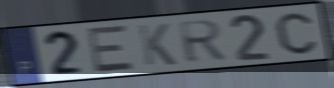2: (41, 28, 89, 79), (230, 12, 271, 62)
C: (273, 11, 319, 56)
E: (86, 23, 136, 75)
K: (135, 22, 178, 67)
R: (175, 18, 229, 65)
